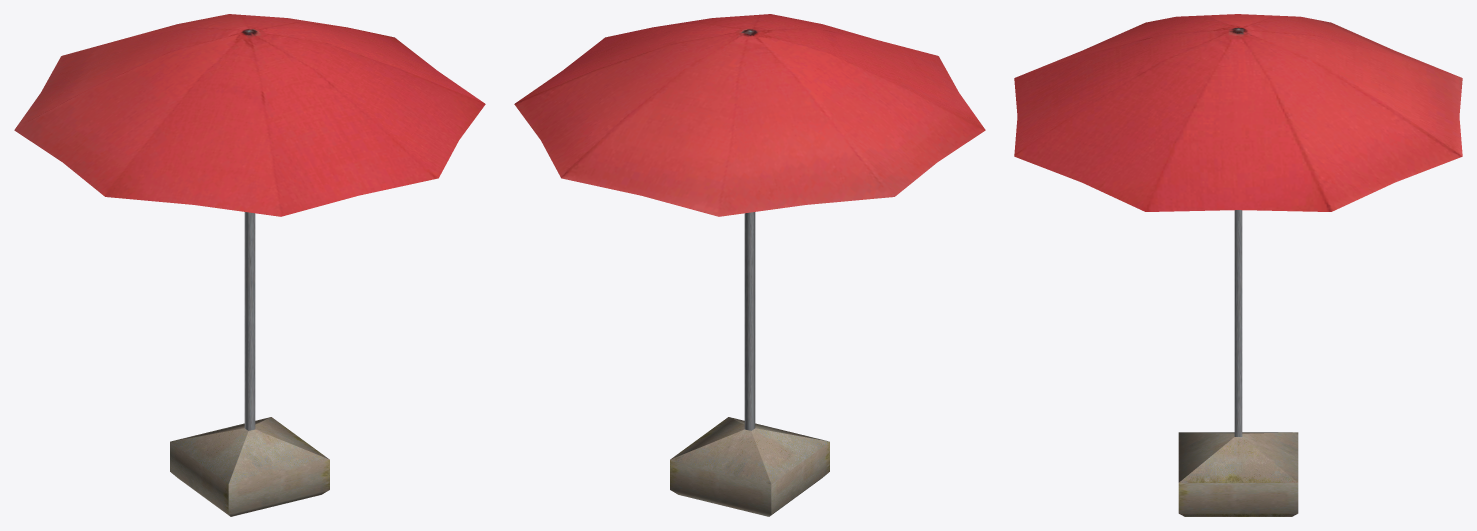
The model's file is UDC_UmbrellaRed.obj.
3 renders of one model, left to right at view 1: azimuth 30°, elevation 25°; view 2: azimuth 150°, elevation 25°; view 3: azimuth 270°, elevation 25°, orthographic. The views are drawn at different scales.
Visible parts, largest first — view 1: UDC_UmbrellaRed; view 2: UDC_UmbrellaRed; view 3: UDC_UmbrellaRed.
Boxes of the visible parts, bbox=[...] form: UDC_UmbrellaRed: bbox=[14, 14, 485, 516]; UDC_UmbrellaRed: bbox=[514, 14, 985, 516]; UDC_UmbrellaRed: bbox=[1014, 14, 1462, 516].
Bounding box in the file's own units: 0.9037 × 1.03 × 0.9037.
Materials: 2 (2 with a texture image).
